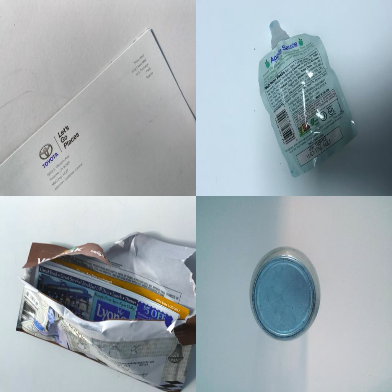glass: (248, 246, 321, 340)
paper: (1, 28, 196, 195), (15, 233, 196, 392)
plastic: (257, 20, 357, 176)
